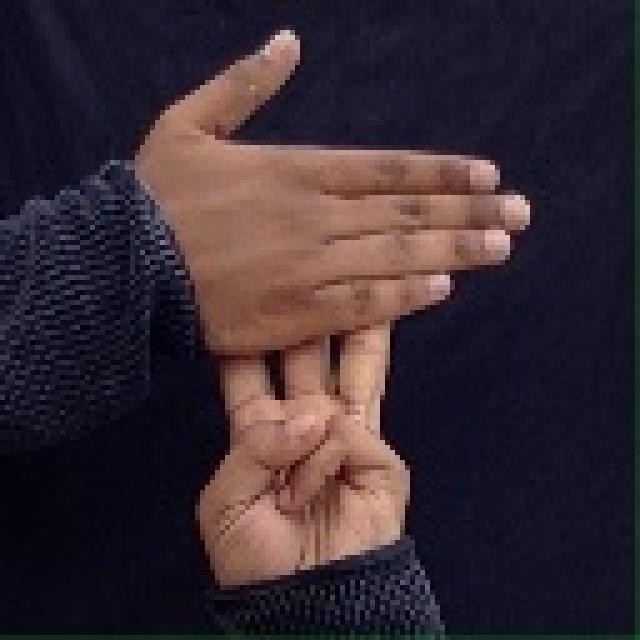Alphabet-M: (117, 16, 538, 604)
